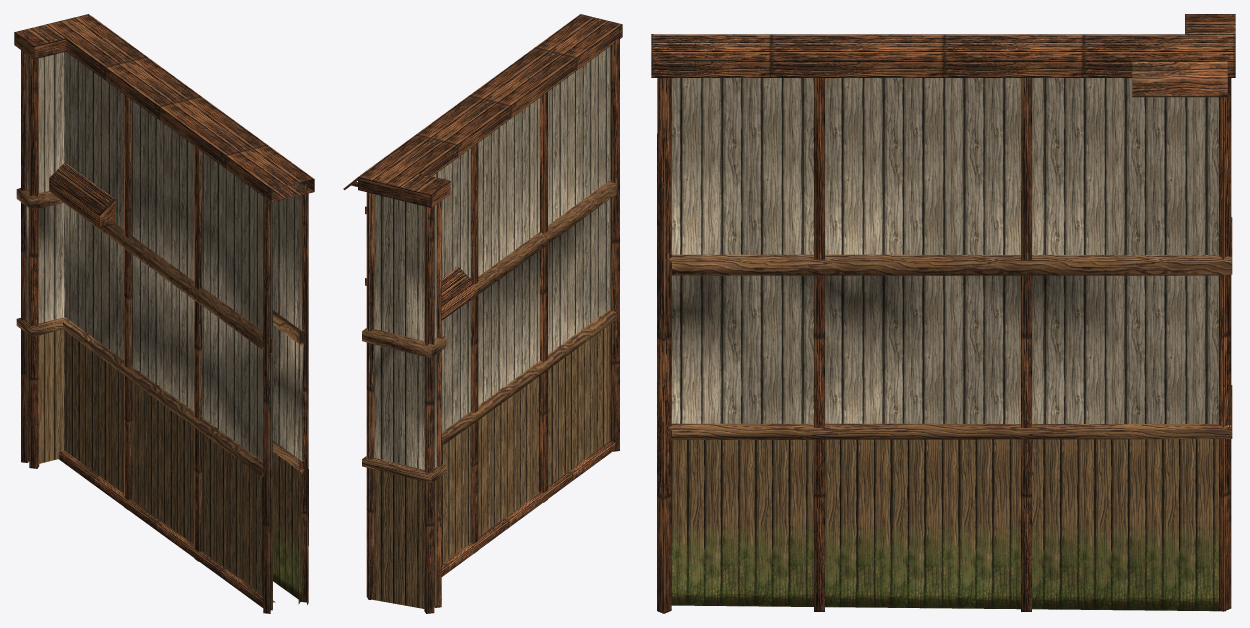
Rendered from LAKETOWN_WAREHOUSE3_PS_WH3_CENTER5757__GX.fbx.
3 views of the same model, side by side, from view 1: azimuth 30°, elevation 25°; view 2: azimuth 150°, elevation 25°; view 3: azimuth 270°, elevation 25° (orthographic). The views are drawn at different scales.
Parts seen in each view (by area): view 1: LAKETOWN_WAREHOUSE3_PS_WH3_CENTER5757__GX; view 2: LAKETOWN_WAREHOUSE3_PS_WH3_CENTER5757__GX; view 3: LAKETOWN_WAREHOUSE3_PS_WH3_CENTER5757__GX.
Boxes of the visible parts, box(x1,y1,x2,y2) form: LAKETOWN_WAREHOUSE3_PS_WH3_CENTER5757__GX: box(14, 14, 314, 613); LAKETOWN_WAREHOUSE3_PS_WH3_CENTER5757__GX: box(343, 14, 622, 613); LAKETOWN_WAREHOUSE3_PS_WH3_CENTER5757__GX: box(651, 14, 1235, 613).
Bounding box in the file's own units: 29893 × 132382 × 126396.
7 materials, 7 textured.
